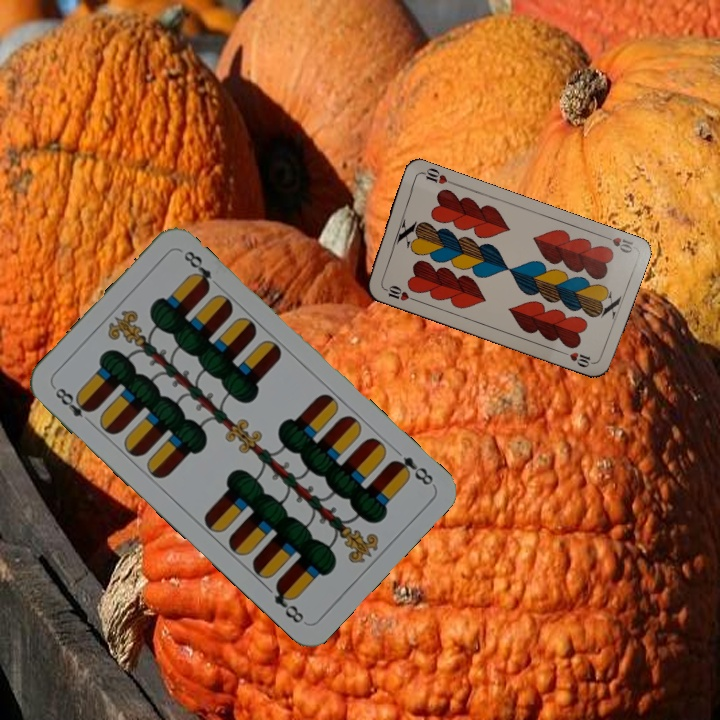E8: (49, 382, 96, 421), (386, 452, 436, 488)
H10: (597, 231, 637, 256), (378, 281, 417, 304)
